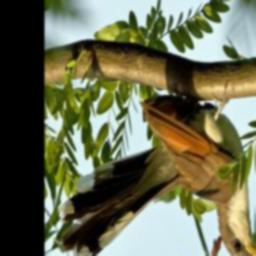Cuckoo: (58, 91, 256, 256)
